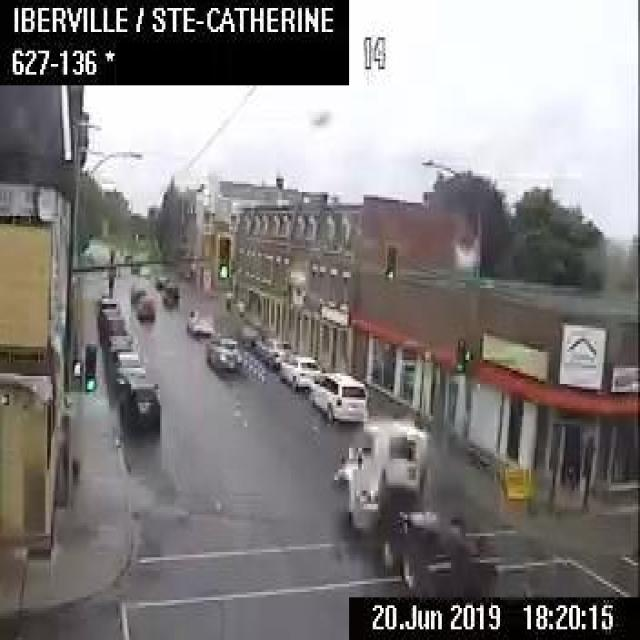vehicle: (332, 415, 494, 592), (307, 369, 366, 421), (119, 374, 160, 430), (279, 352, 320, 389), (109, 349, 145, 384), (205, 335, 240, 368), (258, 335, 290, 366), (103, 326, 131, 358), (97, 307, 123, 341), (185, 306, 213, 333), (240, 321, 264, 345), (94, 296, 118, 320), (135, 294, 154, 320), (160, 281, 178, 303), (129, 279, 145, 300), (154, 272, 168, 288)
